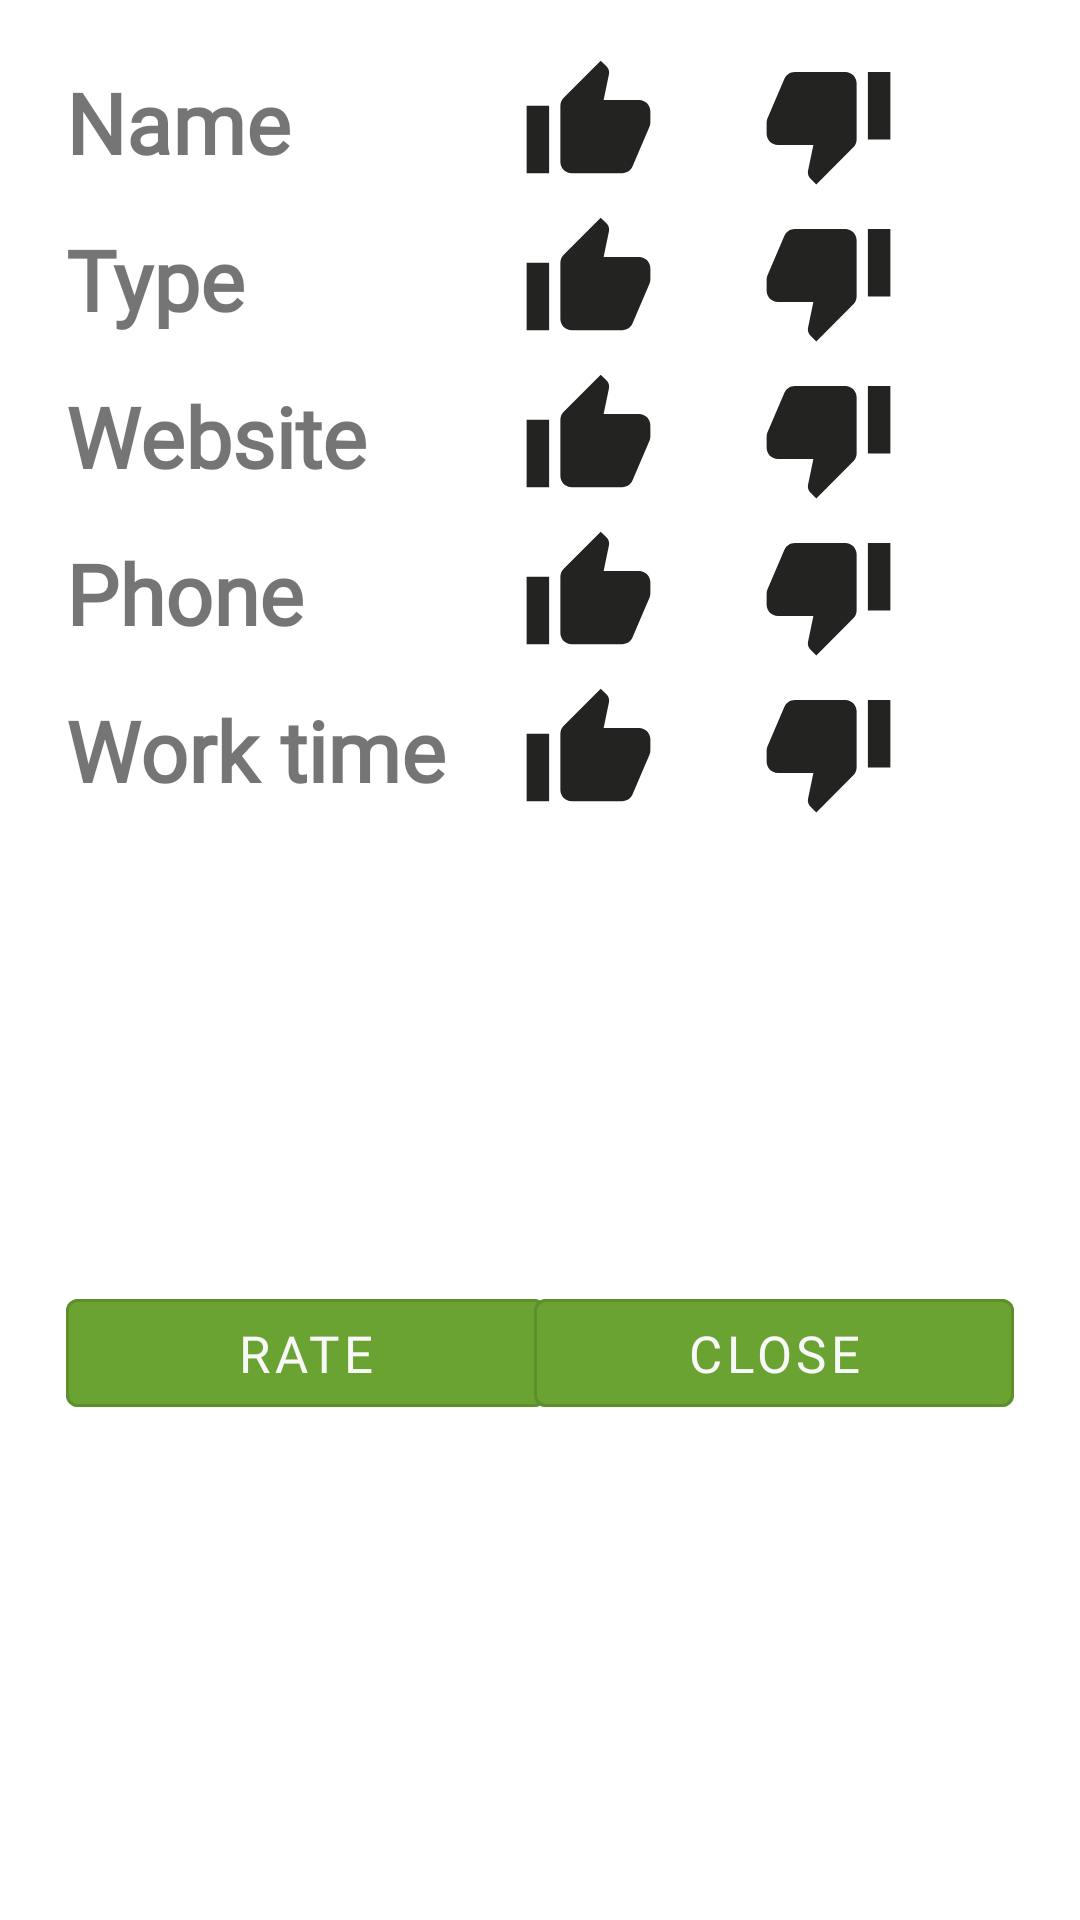

Point at icon controls on the screen. Image size 1080px×1920px, points as point (x, y).
thumbs down: point (828, 128), point (828, 285), point (828, 442), point (828, 599), point (828, 756)
thumbs up: point (588, 117), point (588, 274), point (588, 431), point (588, 588), point (588, 745)
